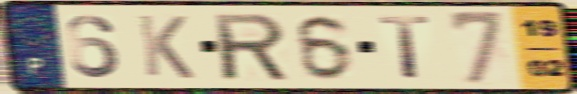6: (294, 12, 357, 82), (65, 13, 124, 81)
7: (445, 8, 508, 88)
K: (134, 12, 198, 82)
R: (209, 11, 292, 83)
T: (376, 14, 436, 81)
